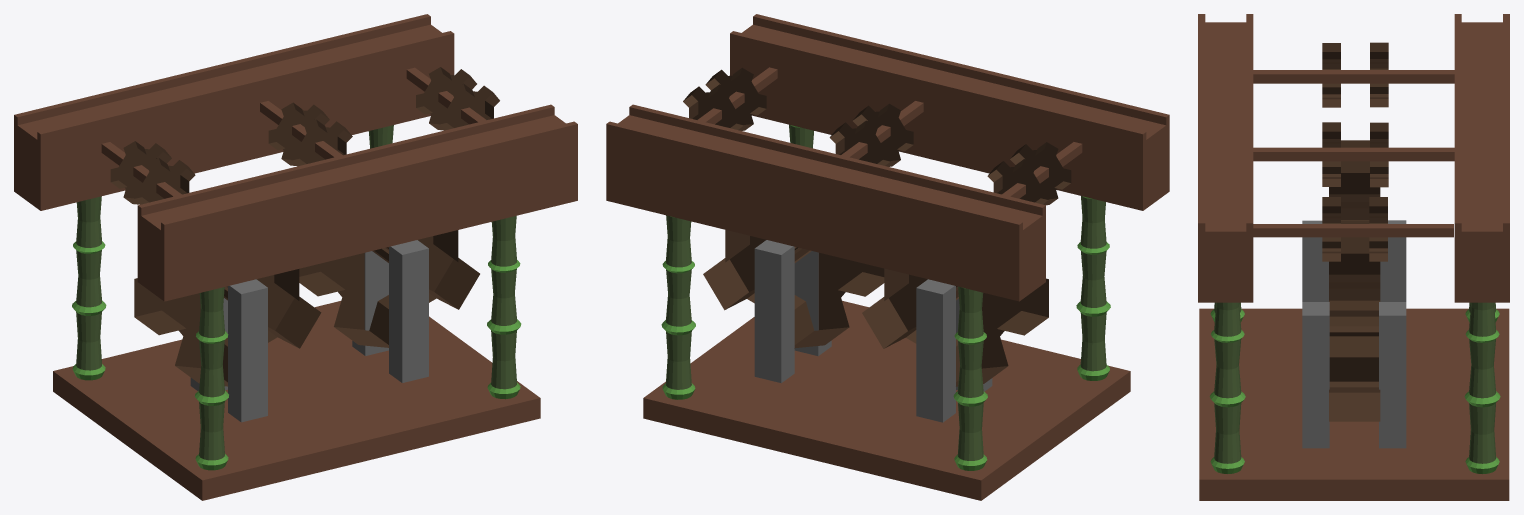
File: rail avec Bambou tout droit 2.fbx
The picture shows the model from 3 angles, left to right: view 1: azimuth 30°, elevation 25°; view 2: azimuth 150°, elevation 25°; view 3: azimuth 270°, elevation 25°; orthographic projection. The views are drawn at different scales.
Parts seen in each view (by area): view 1: rail tout droit, planche en bois qui soutien, gros rouage.002, gros rouage, planche soutien rouage.005, planche soutien rouage.001, bambou.003, bambou, bambou.001, planche soutien rouage.003, petite roue 1.003, petite roue 3.010 (+7 smaller); view 2: rail tout droit, planche en bois qui soutien, gros rouage.002, gros rouage, planche soutien rouage.003, planche soutien rouage.004, bambou, bambou.002, bambou.003, planche soutien rouage.005, petite roue 3.003, petite roue 3.001 (+7 smaller); view 3: planche en bois qui soutien, rail tout droit, gros rouage.002, bambou.002, bambou.001, planche soutien rouage.005, planche soutien rouage.003, attache roue.001, attache roue, attache roue.002, gros rouage, planche soutien rouage.001 (+7 smaller).
Boxes of the visible parts, x1=… form: rail tout droit: x1=14, y1=14, x2=577, y2=301; planche en bois qui soutien: x1=53, y1=301, x2=540, y2=500; gros rouage.002: x1=299, y1=230, x2=479, y2=347; gros rouage: x1=134, y1=269, x2=321, y2=386; planche soutien rouage.005: x1=389, y1=240, x2=428, y2=382; planche soutien rouage.001: x1=228, y1=279, x2=267, y2=422; bambou.003: x1=72, y1=196, x2=106, y2=380; bambou: x1=194, y1=287, x2=228, y2=470; bambou.001: x1=487, y1=216, x2=521, y2=399; planche soutien rouage.003: x1=352, y1=251, x2=388, y2=355; petite roue 1.003: x1=134, y1=158, x2=195, y2=204; petite roue 3.010: x1=439, y1=83, x2=499, y2=129; rail tout droit: x1=606, y1=14, x2=1169, y2=301; planche en bois qui soutien: x1=643, y1=300, x2=1130, y2=500; gros rouage.002: x1=703, y1=230, x2=884, y2=348; gros rouage: x1=862, y1=268, x2=1048, y2=386; planche soutien rouage.003: x1=754, y1=240, x2=794, y2=383; planche soutien rouage.004: x1=916, y1=279, x2=955, y2=422; bambou: x1=1076, y1=196, x2=1110, y2=380; bambou.002: x1=661, y1=215, x2=695, y2=399; bambou.003: x1=953, y1=286, x2=987, y2=470; planche soutien rouage.005: x1=794, y1=251, x2=831, y2=356; petite roue 3.003: x1=987, y1=159, x2=1048, y2=204; petite roue 3.001: x1=852, y1=103, x2=913, y2=166; planche en bois qui soutien: x1=1199, y1=308, x2=1509, y2=500; rail tout droit: x1=1198, y1=14, x2=1509, y2=302; gros rouage.002: x1=1329, y1=220, x2=1380, y2=421; bambou.002: x1=1464, y1=302, x2=1500, y2=473; bambou.001: x1=1209, y1=302, x2=1245, y2=473; planche soutien rouage.005: x1=1302, y1=302, x2=1329, y2=448; planche soutien rouage.003: x1=1379, y1=302, x2=1406, y2=448; attache roue.001: x1=1253, y1=147, x2=1454, y2=161; attache roue: x1=1253, y1=70, x2=1454, y2=83; attache roue.002: x1=1253, y1=224, x2=1453, y2=237; gros rouage: x1=1329, y1=140, x2=1380, y2=220; planche soutien rouage.001: x1=1302, y1=220, x2=1328, y2=301.
Bounding box in the file's own units: 698 × 463 × 440.
